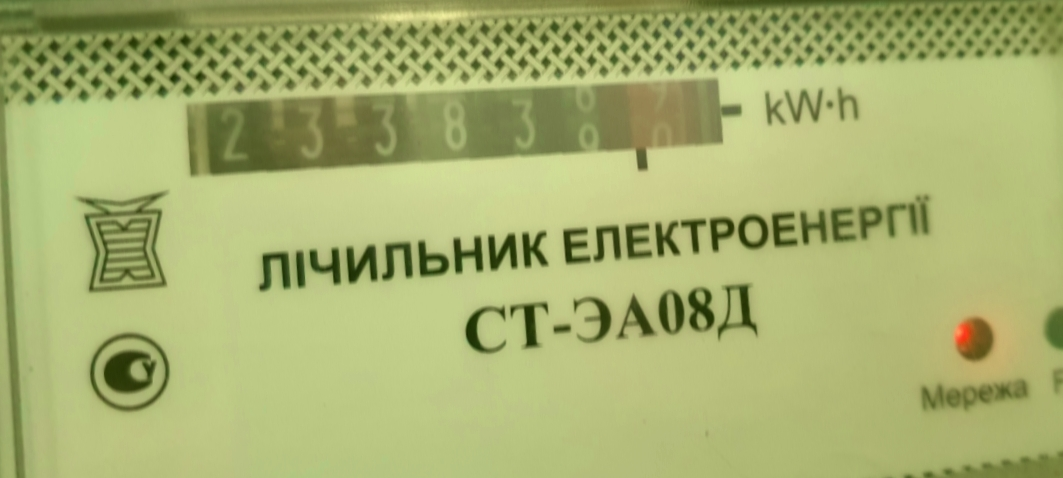0: (648, 118, 677, 154)
2: (213, 101, 257, 165)
3: (364, 95, 405, 161), (508, 91, 542, 151), (295, 101, 328, 161)
8: (436, 93, 475, 154), (573, 79, 602, 114)
9: (642, 74, 676, 116), (575, 118, 606, 156)
screen: (154, 29, 759, 240)
